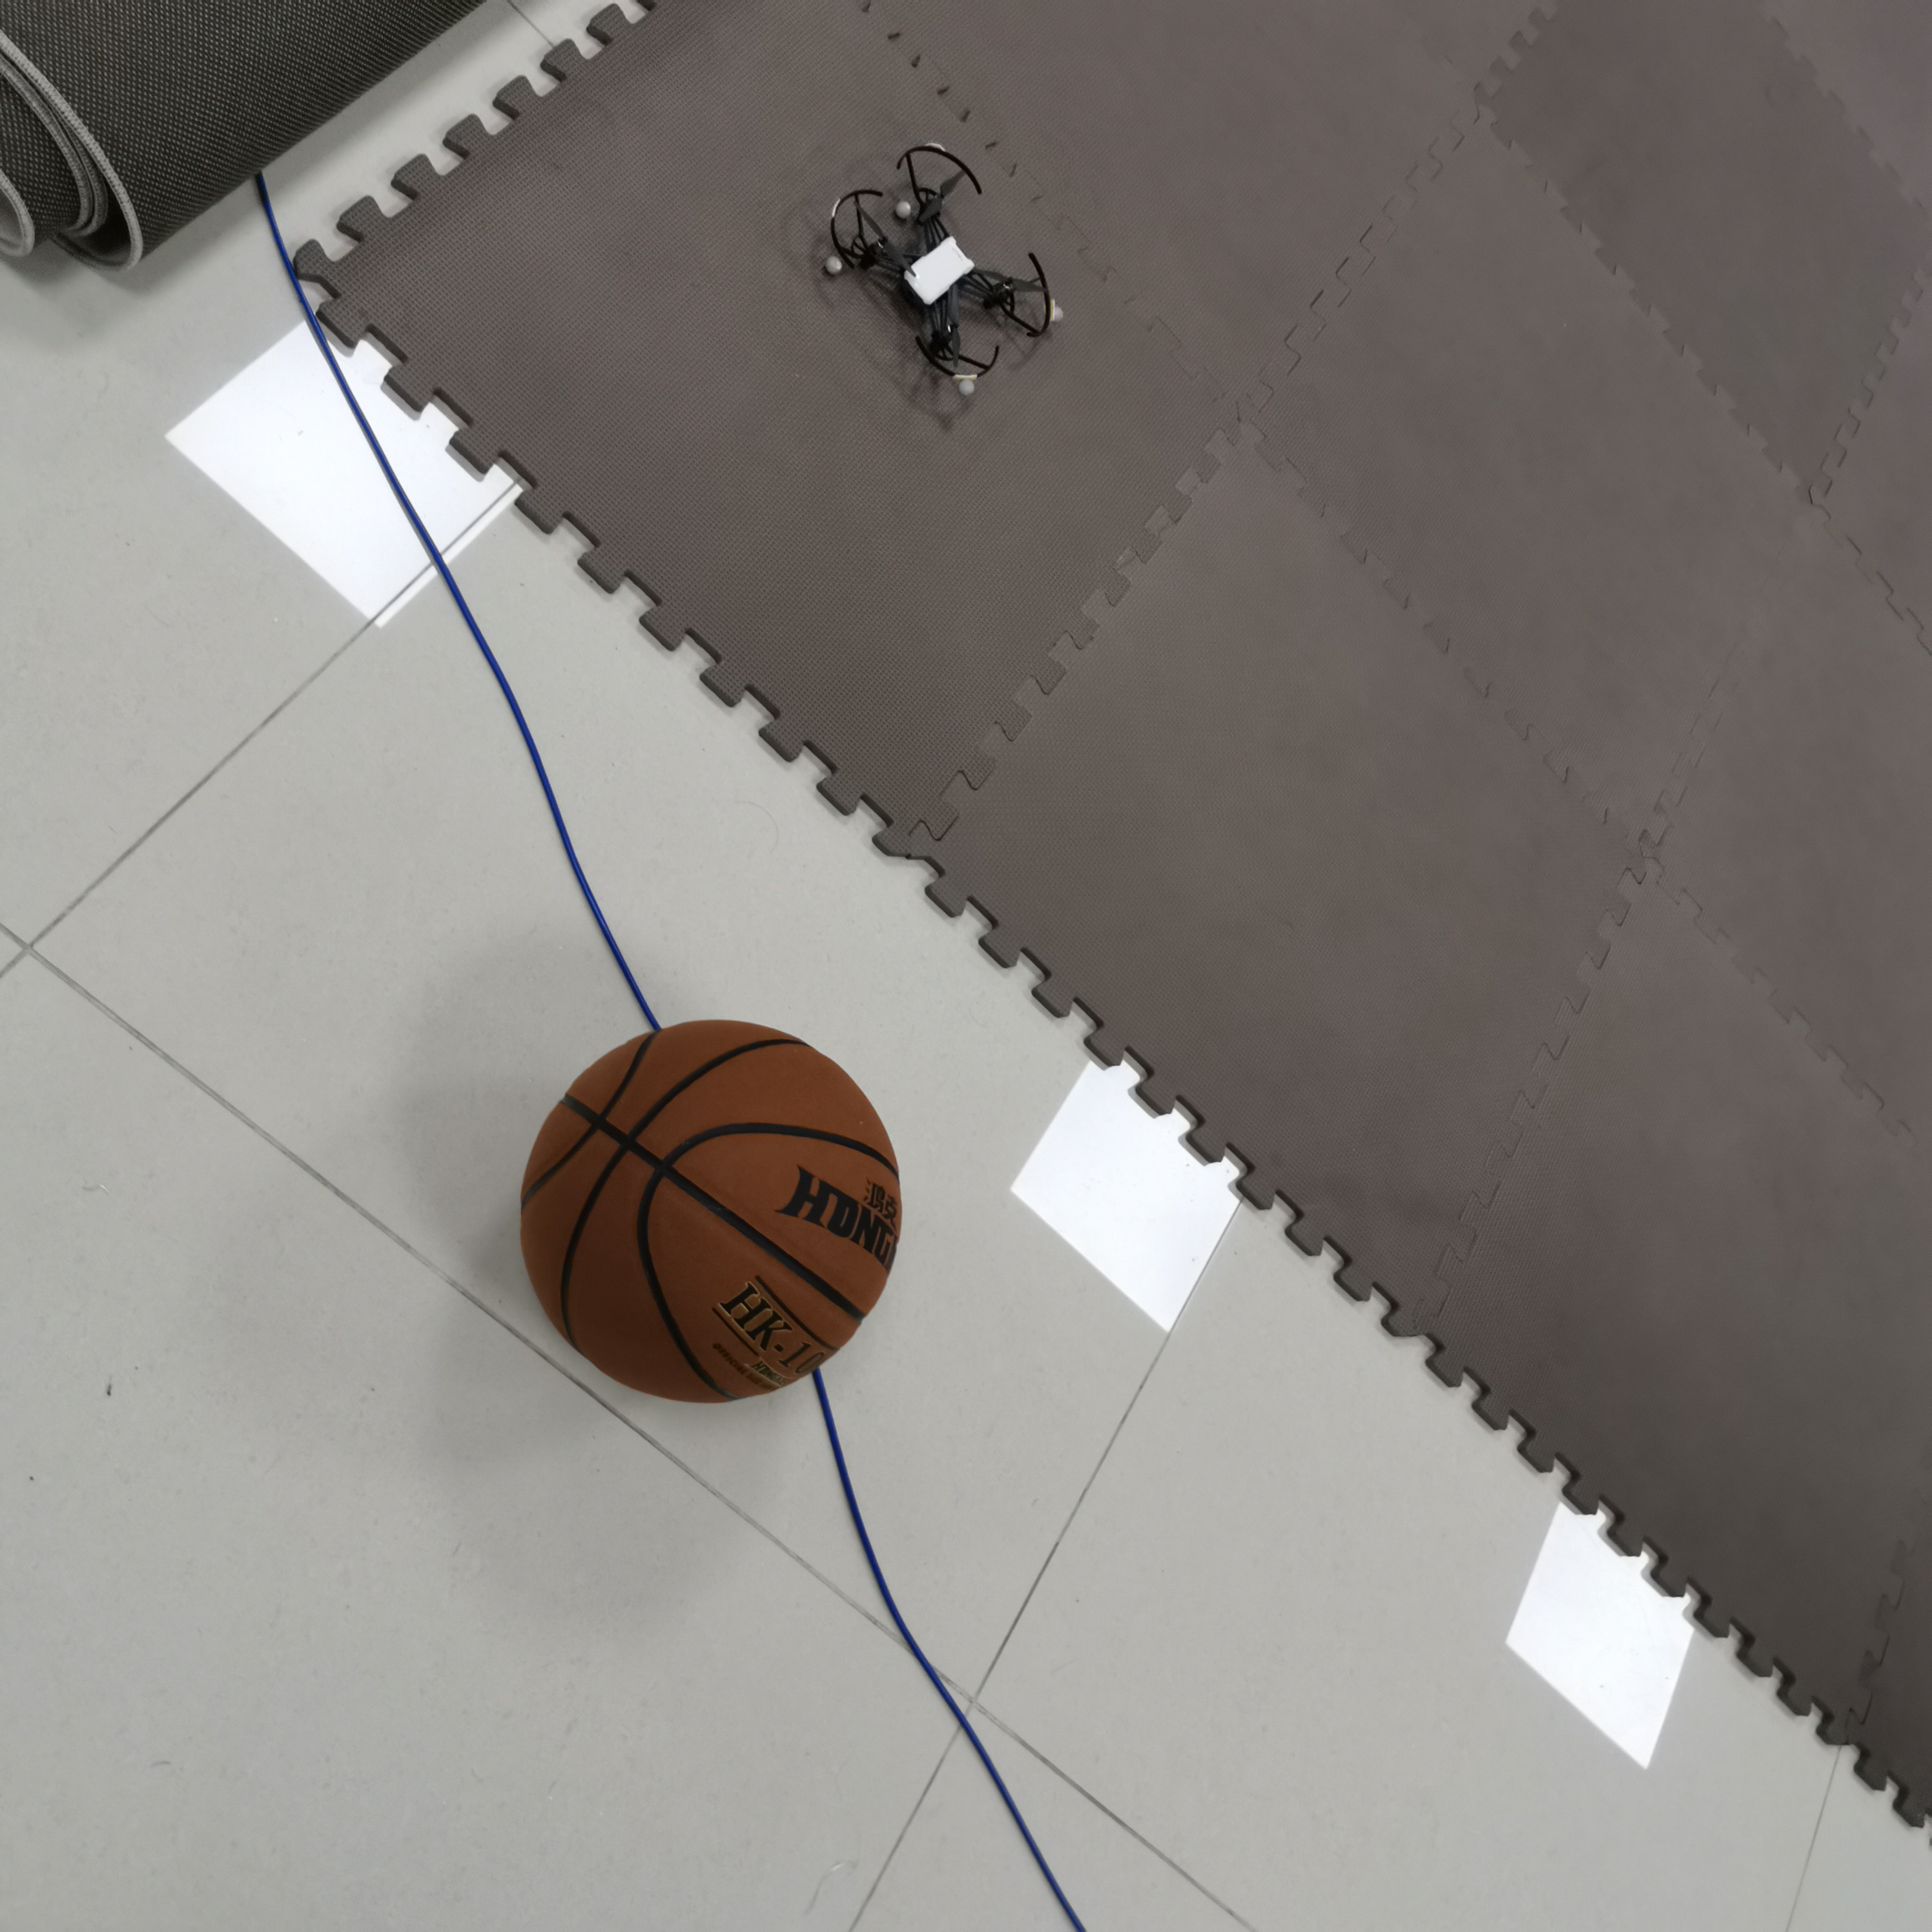basketball: (522, 1019, 904, 1403)
